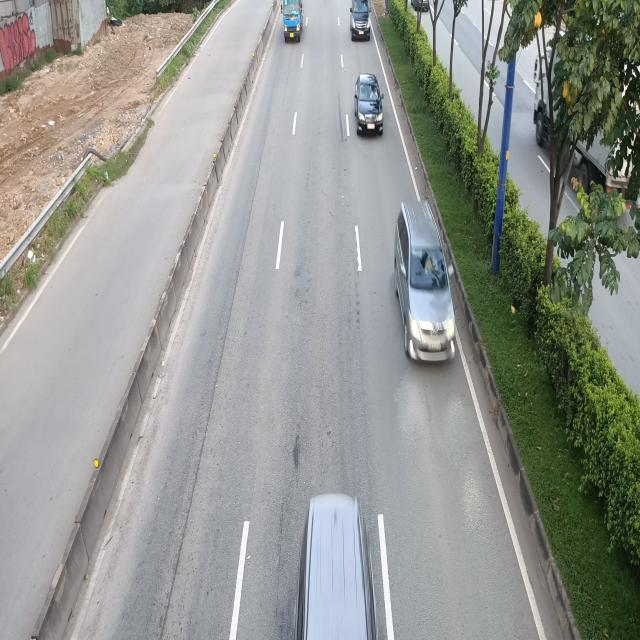car: (394, 200, 455, 365), (353, 72, 383, 136), (349, 0, 371, 40)
truck: (282, 0, 304, 41)
